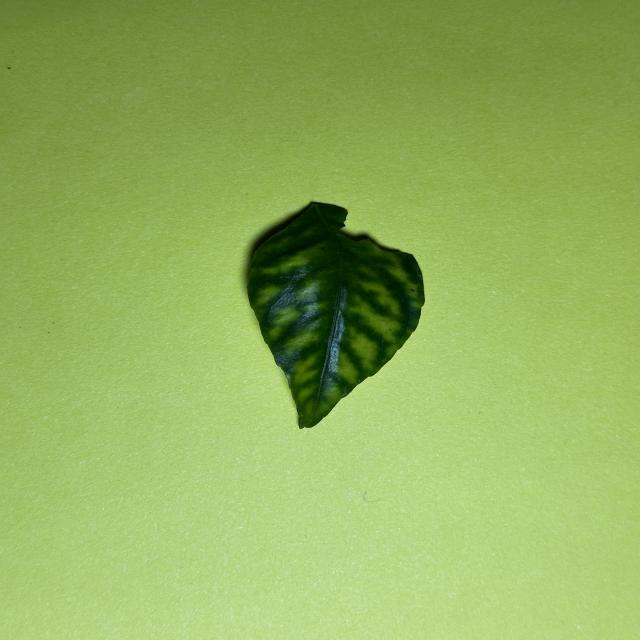greening: (247, 203, 424, 428)
